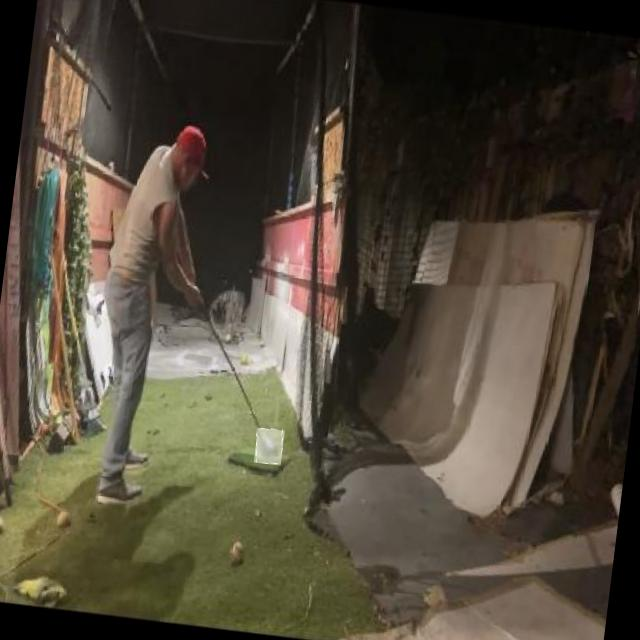club head: (253, 427, 284, 465)
